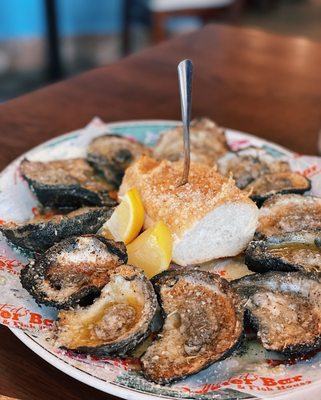curry: (1, 17, 318, 396)
